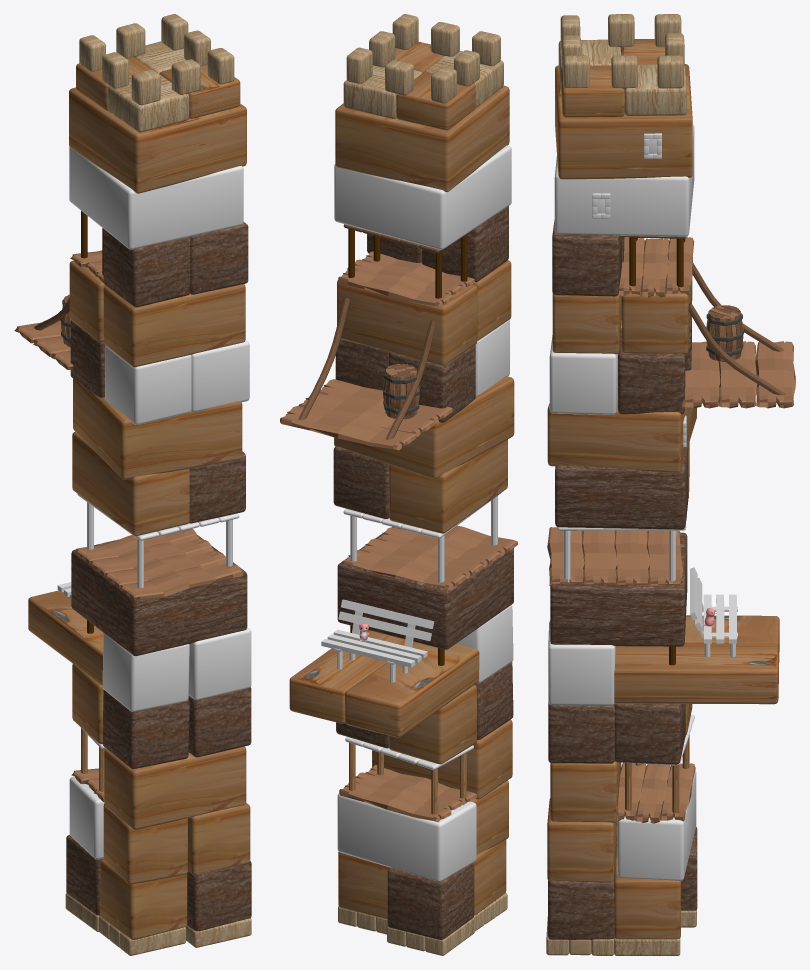
Rendered from SeitenwandLinks.fbx.
3 views of the same model, side by side, from view 1: azimuth 30°, elevation 25°; view 2: azimuth 150°, elevation 25°; view 3: azimuth 270°, elevation 25° (orthographic). The views are drawn at different scales.
Visible parts, largest first — view 1: Cube.113, Cube.055, Cube.033, Cube.041, Cube.024, Cube.047, Cube.040, Cube.053, Cube.027, Cube.044, Cube.031, Cube.015 (+34 smaller); view 2: Cube.113, Cube.055, Cube.033, Cube.016, Cube.046, Cube.029, Cube.041, Cube.040, Cube.013, Cube.030, Cylinder.028, Cube.024 (+45 smaller); view 3: Cube.030, Cube.033, Cube.113, Cube.039, Cube.041, Cube.055, Cube.016, Cube.054, Cube.045, Cube.018, Cube.026, Cube.032 (+36 smaller).
Boxes of the visible parts, x1,y1,x2,y2 form: Cube.113: [69, 87, 246, 193]; Cube.055: [69, 147, 243, 249]; Cube.033: [71, 535, 247, 656]; Cube.041: [73, 378, 242, 479]; Cube.024: [104, 746, 246, 829]; Cube.047: [103, 284, 245, 367]; Cube.040: [72, 431, 189, 536]; Cube.053: [103, 229, 190, 307]; Cube.027: [102, 690, 189, 768]; Cube.044: [105, 345, 191, 424]; Cube.031: [102, 633, 189, 711]; Cube.015: [100, 859, 187, 939]; Cube.113: [335, 85, 509, 192]; Cube.055: [334, 145, 511, 249]; Cube.033: [337, 526, 513, 649]; Cube.016: [337, 793, 476, 881]; Cube.046: [337, 280, 477, 365]; Cube.029: [345, 642, 479, 737]; Cube.041: [334, 376, 514, 478]; Cube.040: [389, 439, 507, 533]; Cube.013: [387, 862, 474, 939]; Cube.030: [289, 630, 415, 723]; Cylinder.028: [321, 599, 434, 682]; Cube.024: [372, 719, 512, 799]; Cube.030: [614, 643, 778, 704]; Cube.033: [550, 532, 687, 646]; Cube.113: [555, 64, 692, 179]; Cube.039: [555, 447, 688, 529]; Cube.041: [547, 401, 696, 472]; Cube.055: [554, 124, 694, 236]; Cube.016: [617, 770, 696, 881]; Cube.054: [552, 220, 621, 296]; Cube.045: [549, 335, 618, 414]; Cube.018: [547, 798, 616, 882]; Cube.026: [614, 703, 685, 764]; Cube.032: [548, 621, 615, 705].
Size of the model in its own units: 7.82 by 51.98 by 13.2.
